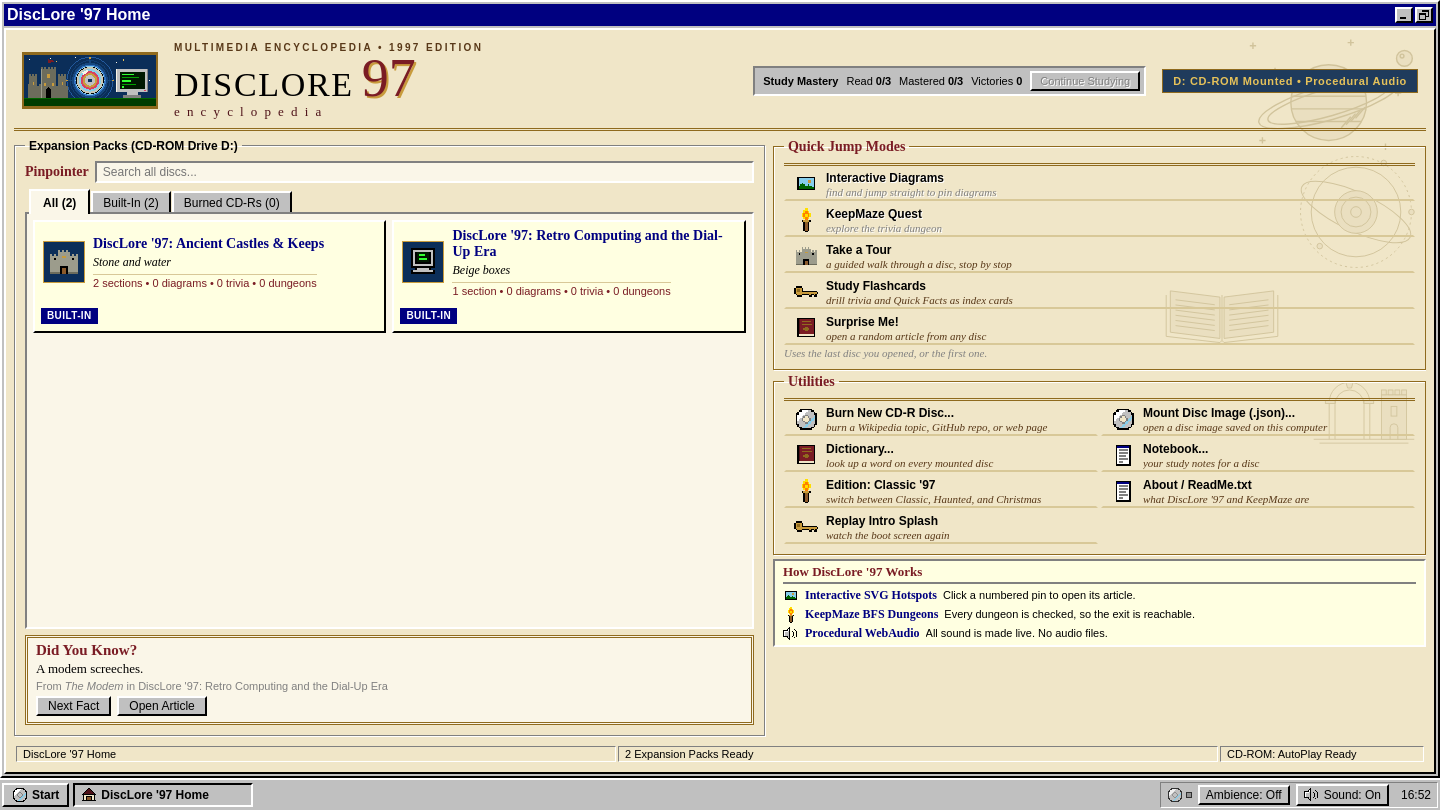
Test case: disc switcher › switches between mounted discs without closing, and saves each disc separately
This screenshot has width=1440, height=810.
Click the text "DiscLore '97: Ancient Castles & Keeps": (209,244) x1=93 y1=236 x2=324 y2=253
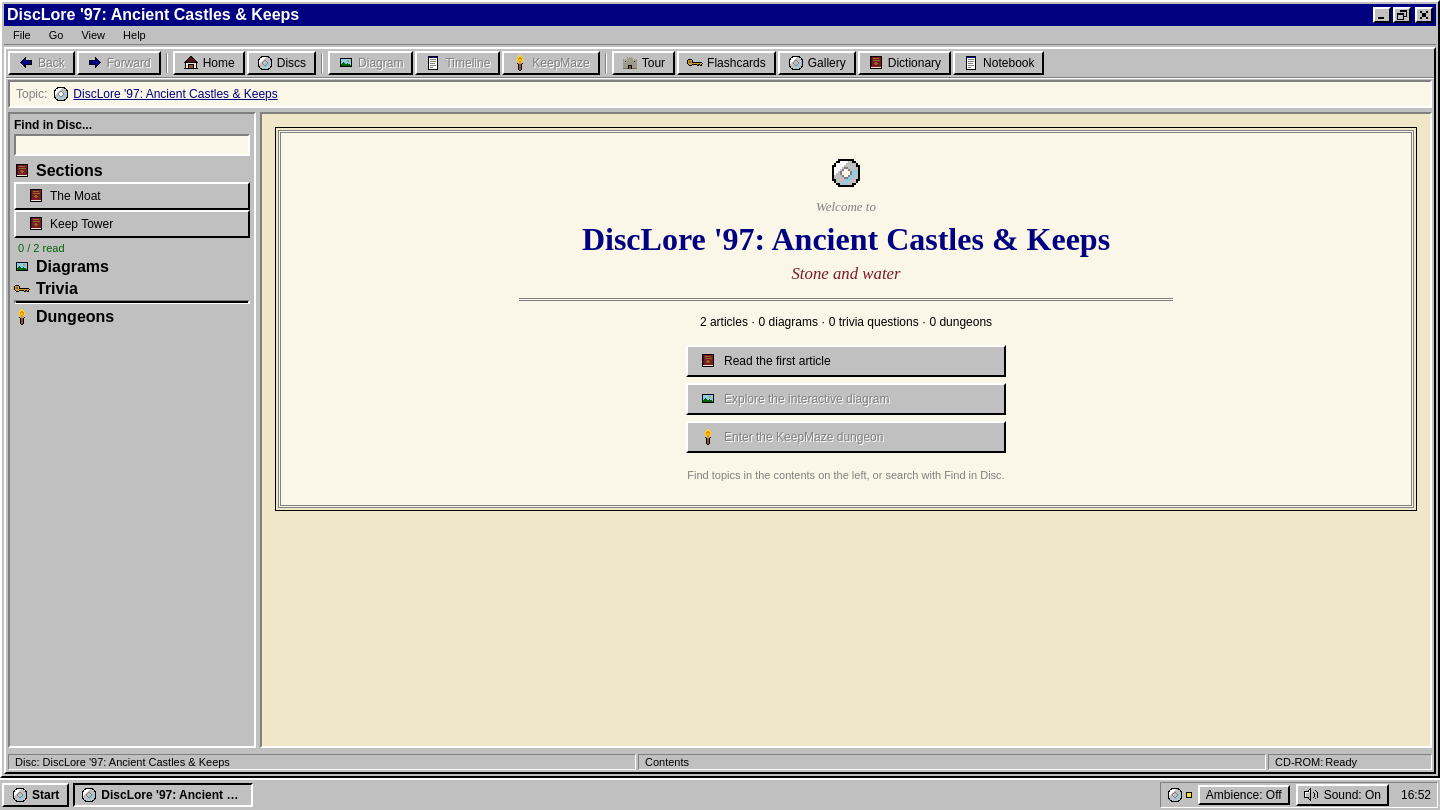
Click the button "Notebook": (999,63) x1=953 y1=51 x2=1044 y2=75
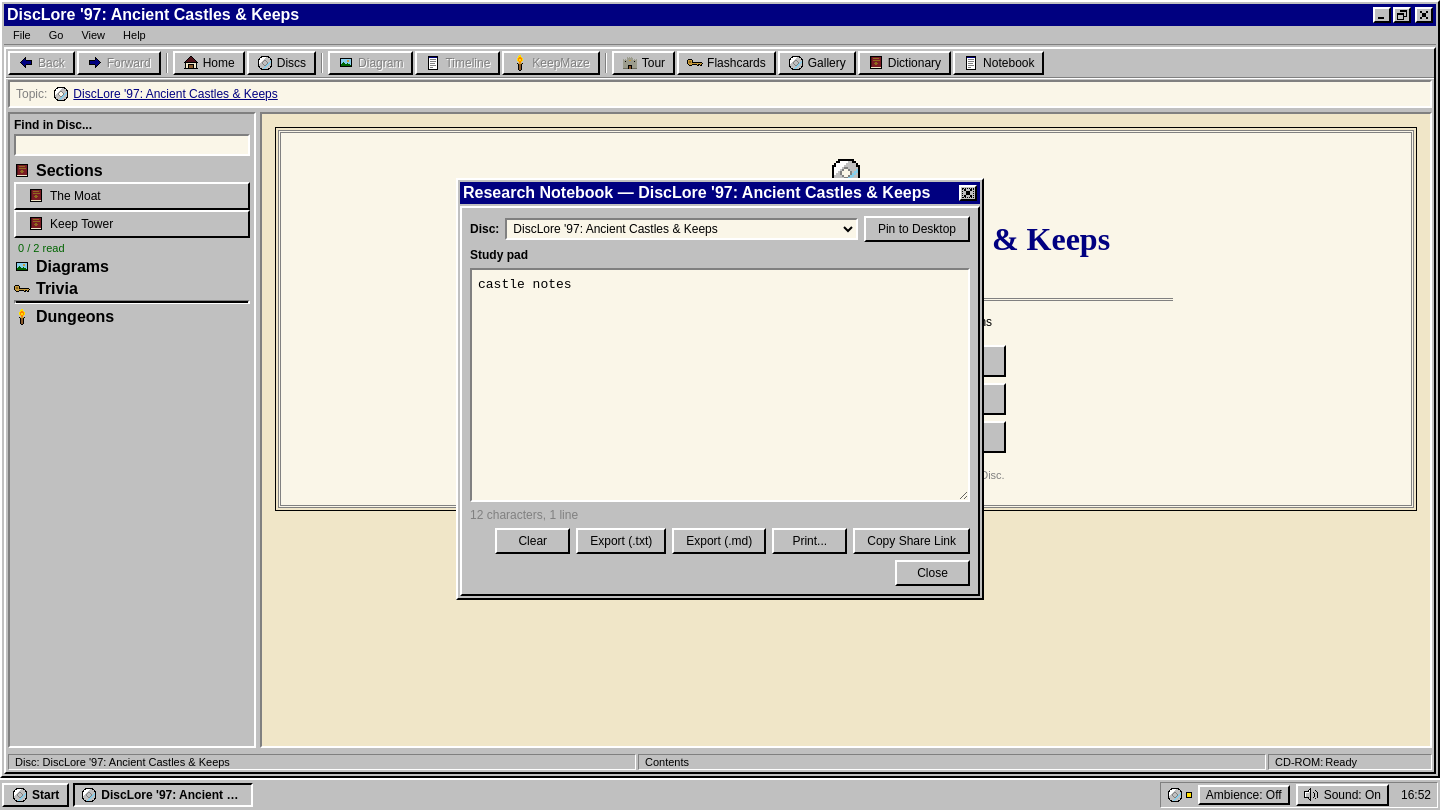
Result: the dropdown labelled "Disc:" shows "DiscLore '97: Ancient Castles & Keeps"
Result: the text box labelled "Study pad" holds "castle notes" at x1=470 y1=268 x2=970 y2=502
Select "DiscLore '97: Retro Computing and the Dial-Up Era" in the dropdown labelled "Disc:": (682,229) x1=505 y1=218 x2=858 y2=240
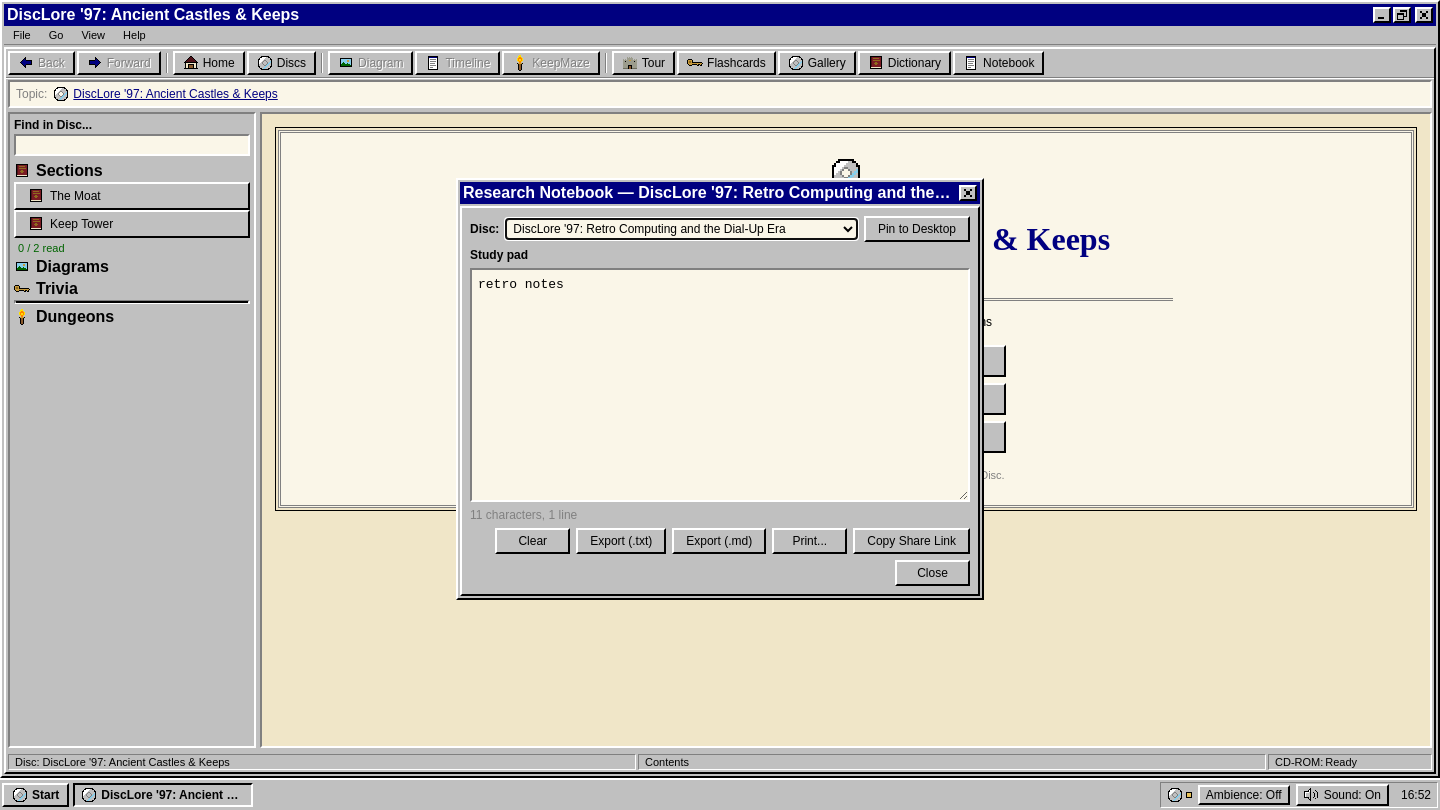
Result: the text box labelled "Study pad" holds "retro notes"
Result: the dialog "Research Notebook" shows "DiscLore '97: Retro Computing and the Dial-Up Era" at x1=463 y1=184 x2=1025 y2=201
Replace the text in the text box labelled "Study pad" with "retro notes, edited": (720,385) x1=470 y1=268 x2=970 y2=502
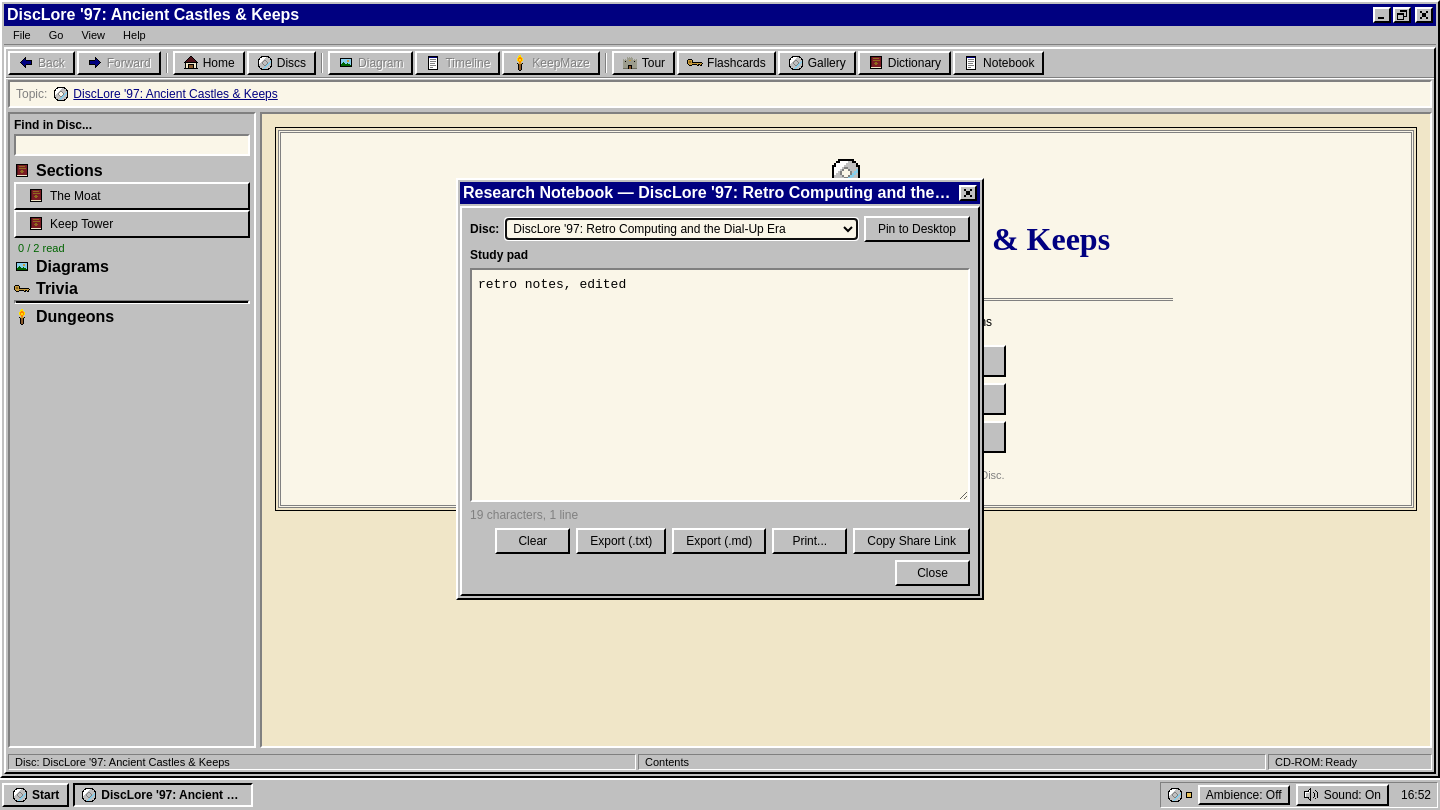
Select "DiscLore '97: Ancient Castles & Keeps" in the dropdown labelled "Disc:": (682,229) x1=505 y1=218 x2=858 y2=240
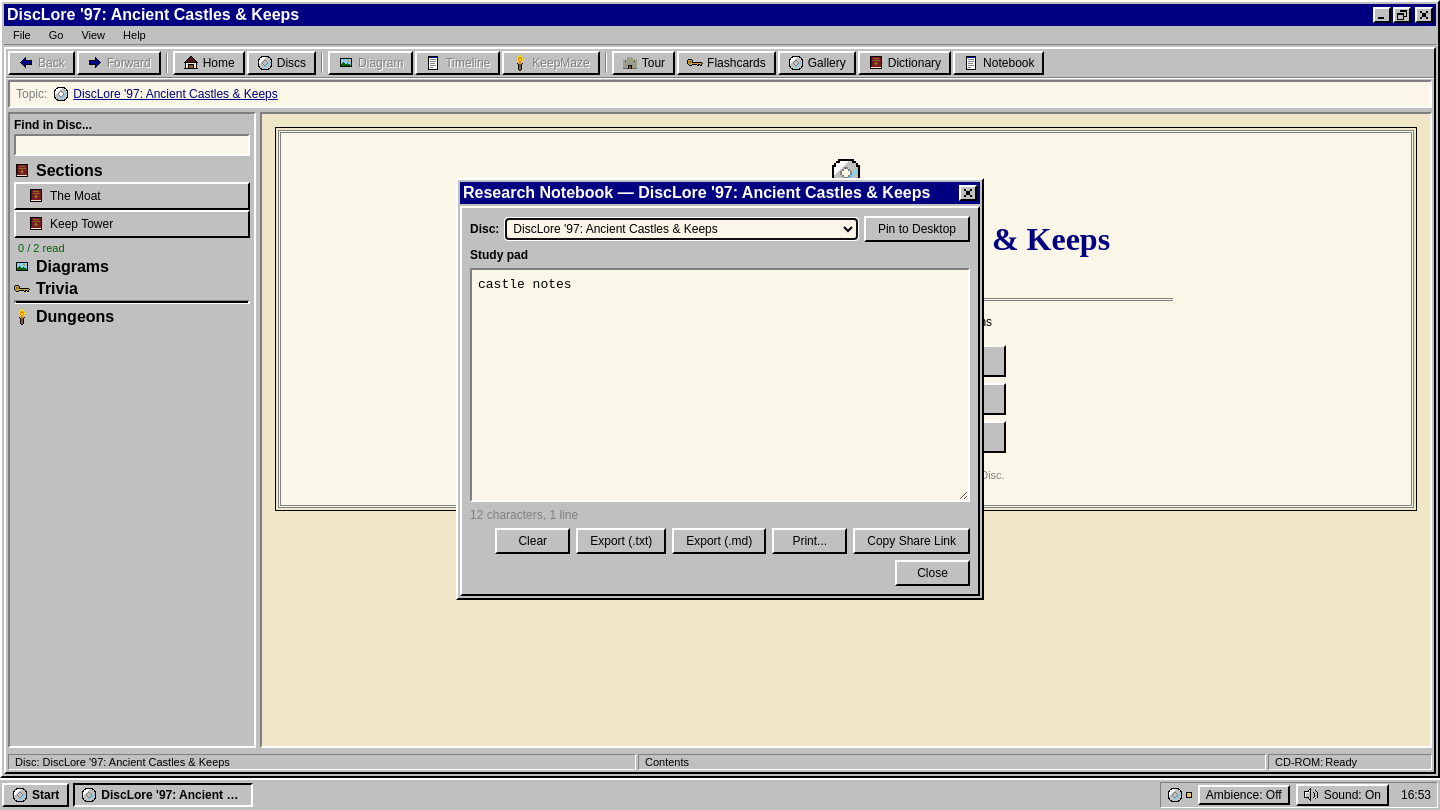
Result: the text box labelled "Study pad" holds "castle notes" at x1=470 y1=268 x2=970 y2=502
